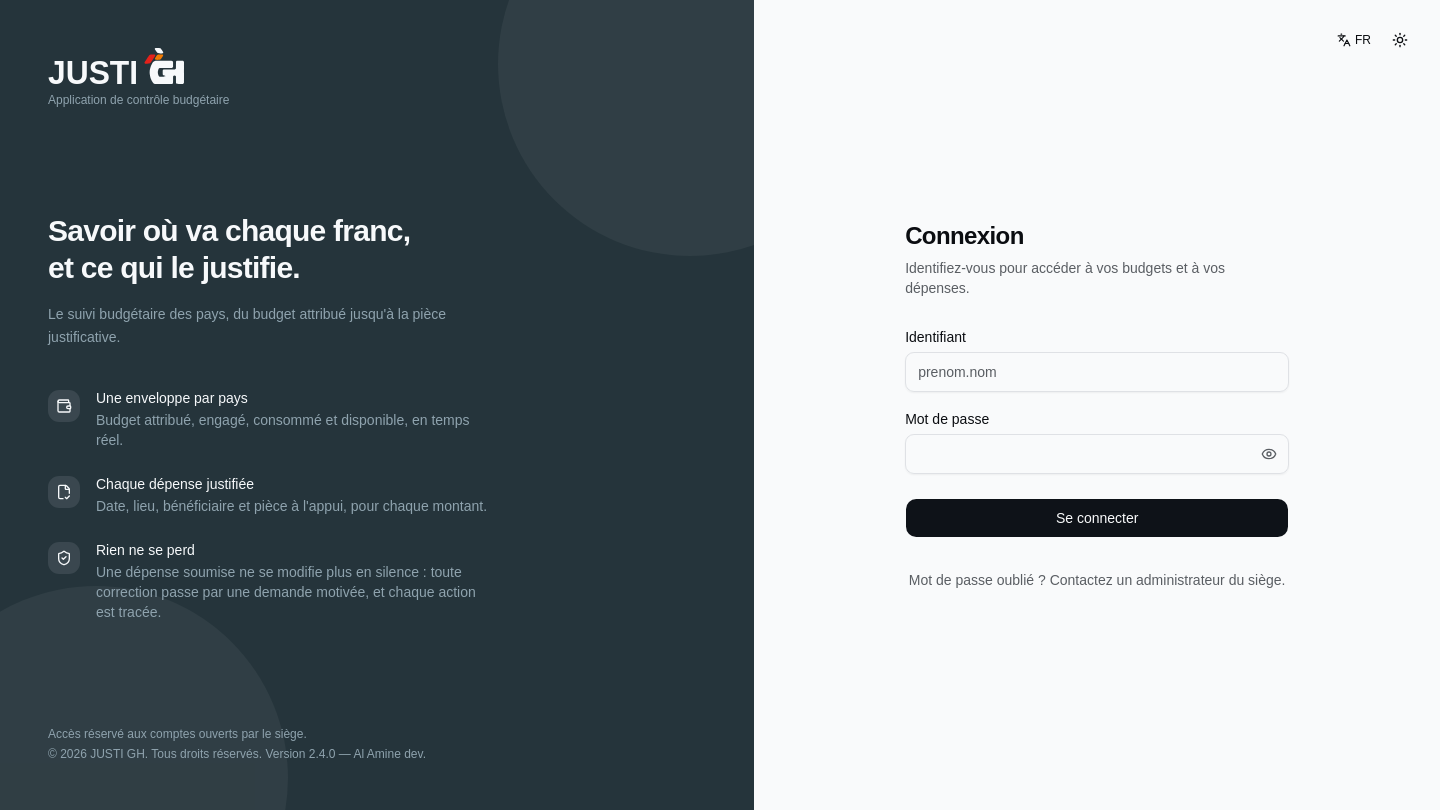
Scenario: connexion avec double authentification › affiche le refus d'un code faux sans vider le champ
In the field labelled "Identifiant": (1097, 372) 905,352 -> 1289,392, type "togo.innov"
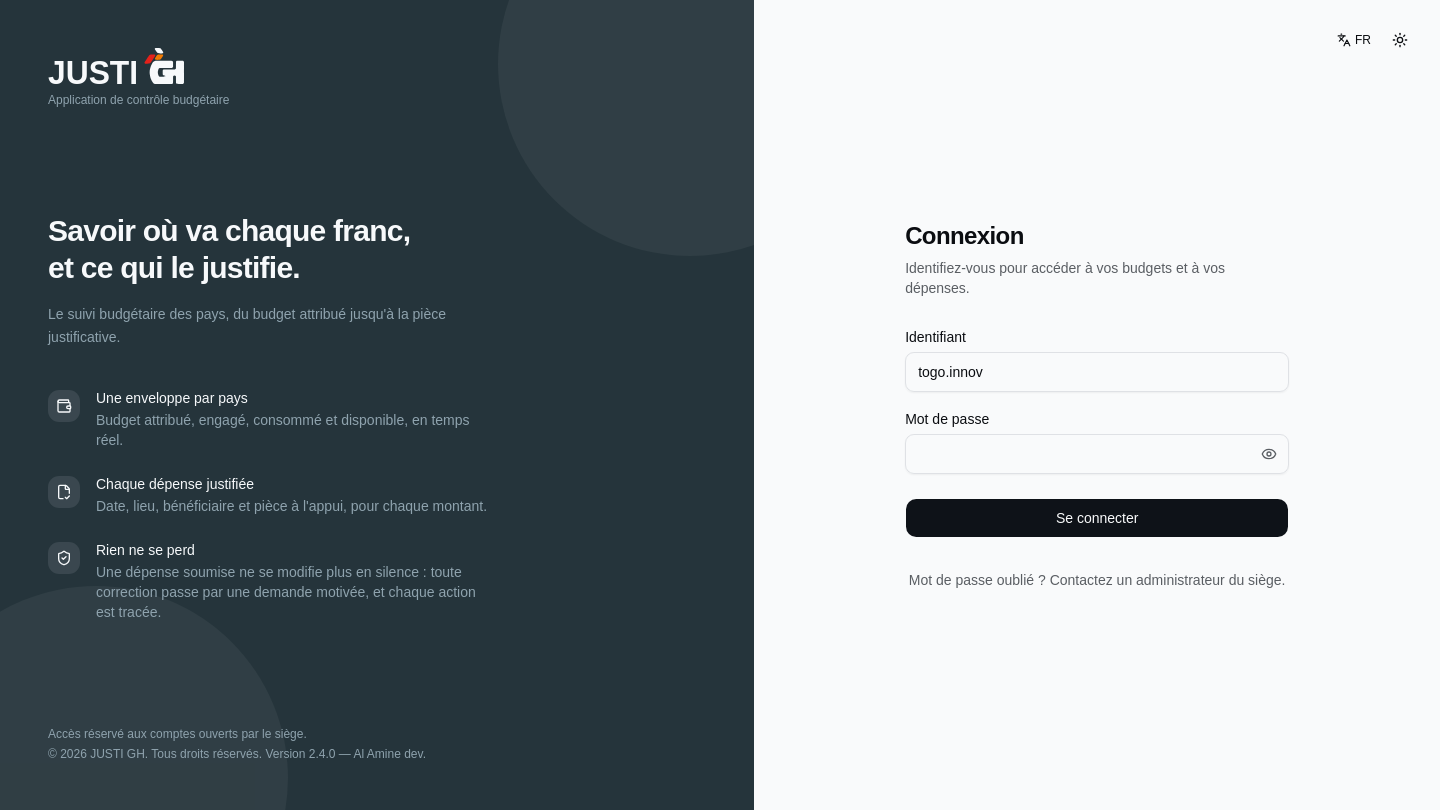
In the password field labelled "Mot de passe": (1097, 454) 905,434 -> 1289,474, type "secret"
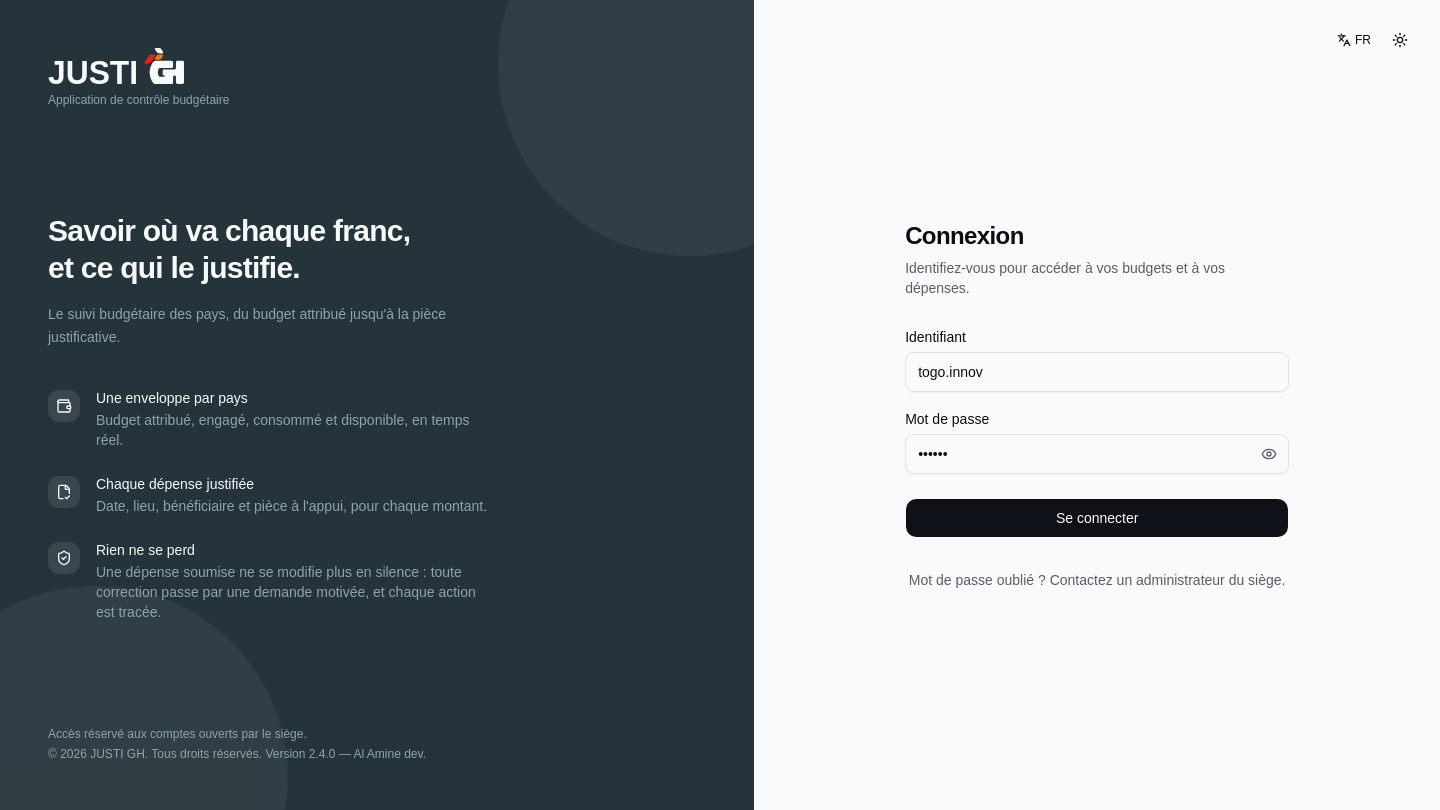
Click the button "Se connecter": (1097, 518) 905,498 -> 1289,538
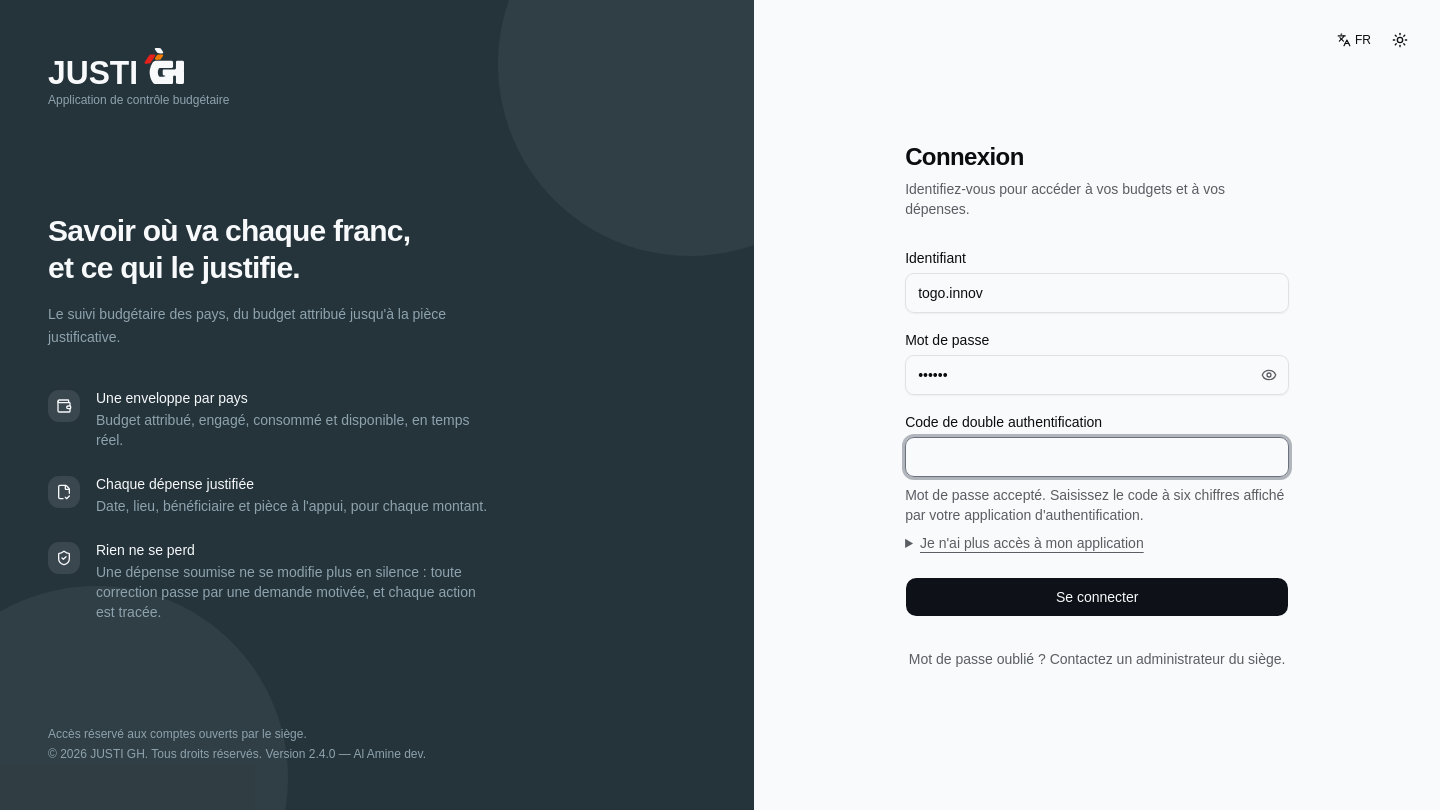
In the field labelled "Code de double authentification": (1097, 457) 905,437 -> 1289,477, type "000000"
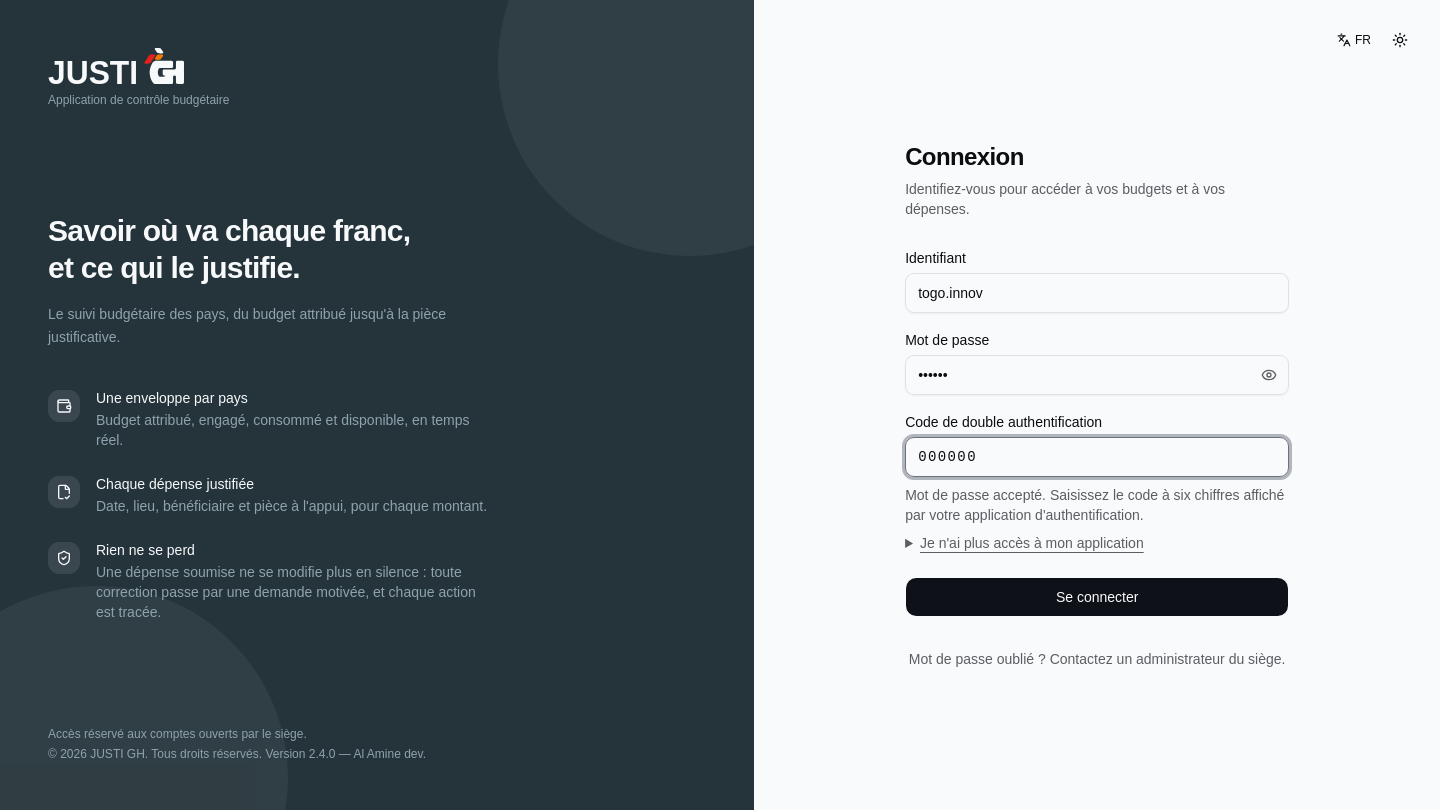
Click the button "Se connecter": (1097, 597) 905,577 -> 1289,617
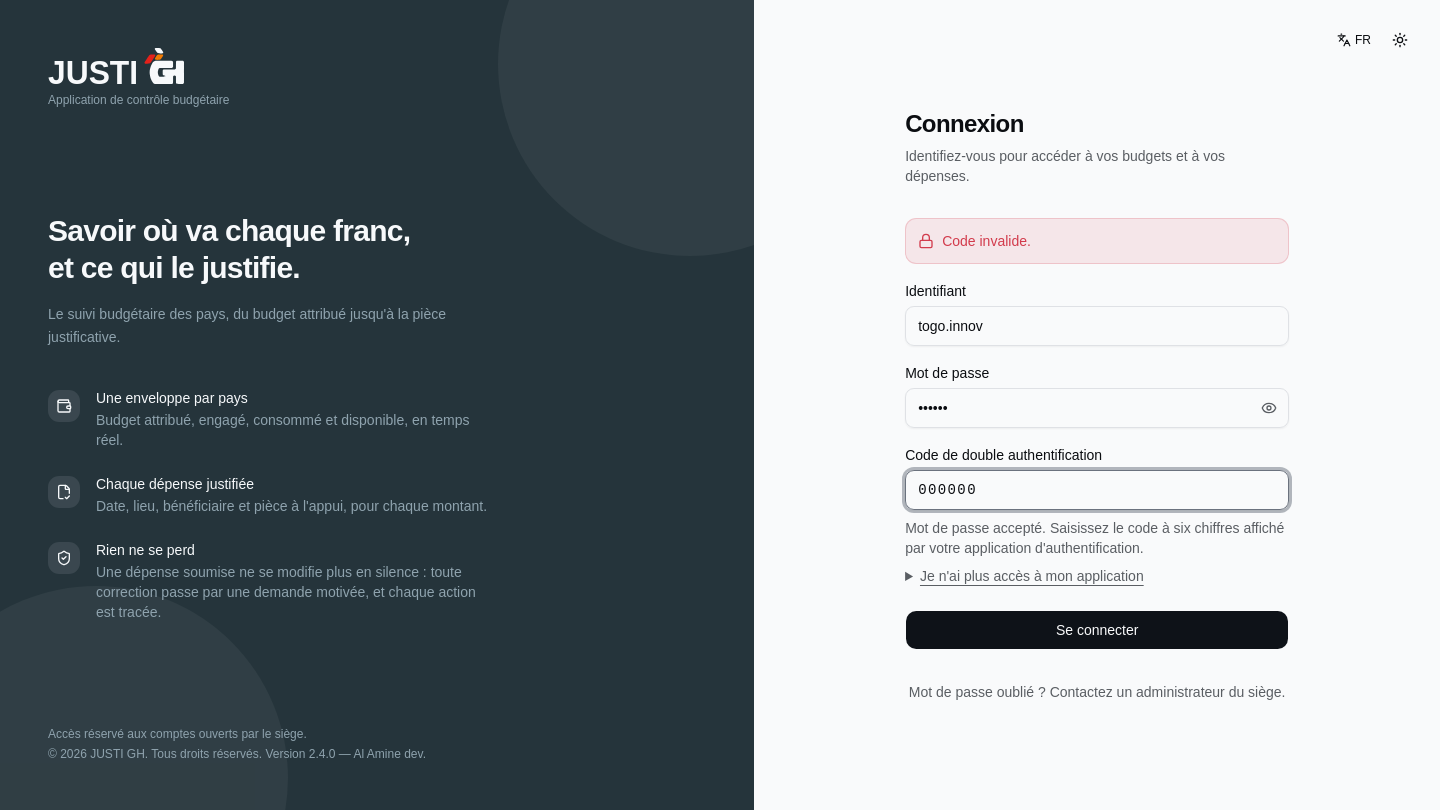
Expected: the message reads "Code invalide.", 942,233 -> 1031,249
